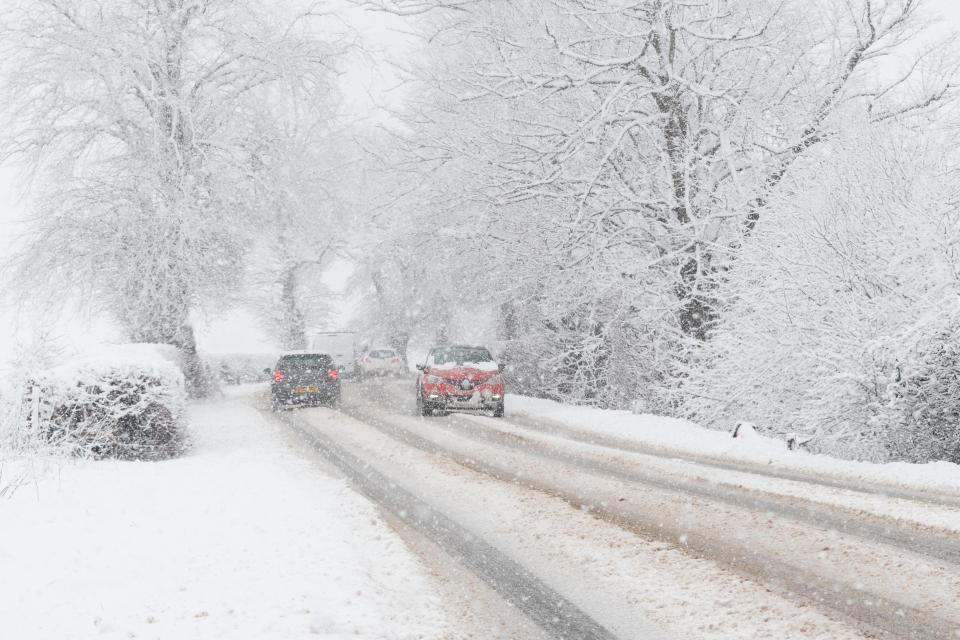car: (414, 344, 509, 421), (264, 351, 343, 409), (363, 347, 407, 381)
